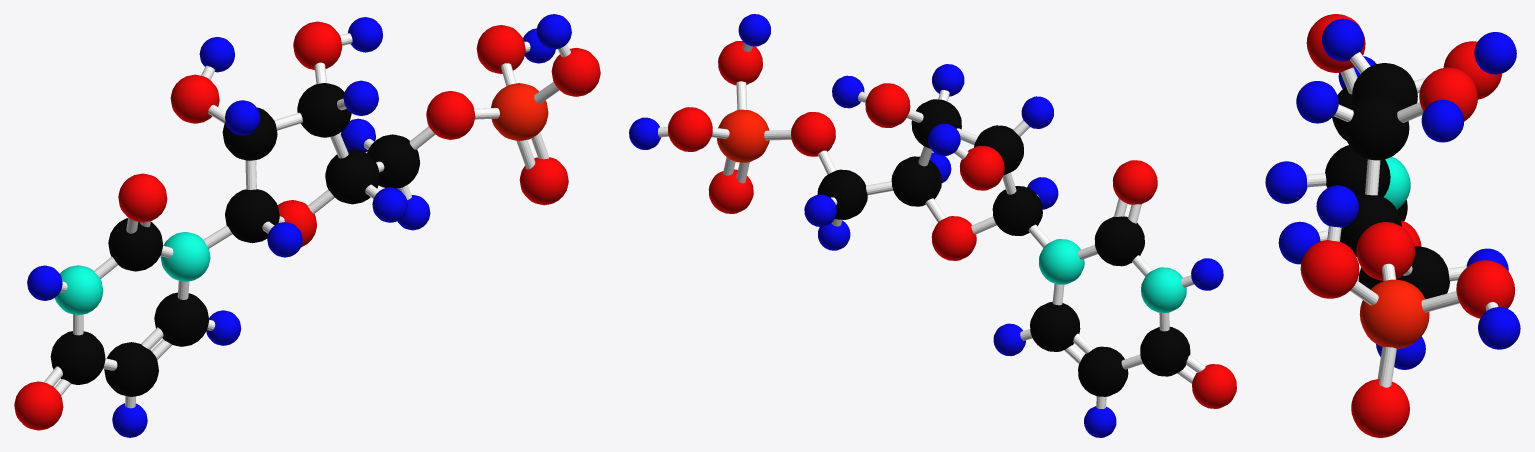
File: uridina.obj
3 views of the same model, side by side, from view 1: azimuth 30°, elevation 25°; view 2: azimuth 150°, elevation 25°; view 3: azimuth 270°, elevation 25° (orthographic). The views are drawn at different scales.
Parts seen in each view (by area): view 1: fosforo_Shape_Sphere.001, carbono.002_Shape_Sphere.025, carbono.001_Shape_Sphere.029, carbono_Shape_Sphere.027, carbono.007_Shape_Sphere.009, carbono.004_Shape_Sphere.014, carbono.006_Shape_Sphere.012, carbono.003_Shape_Sphere.026, carbono.008_Shape_Sphere.008, oxigenio_Shape_Sphere, oxigenio.001_Shape_Sphere.033, oxigenio.005_Shape_Sphere.006 (+22 smaller); view 2: fosforo_Shape_Sphere.001, carbono_Shape_Sphere.027, carbono.003_Shape_Sphere.026, carbono.001_Shape_Sphere.029, carbono.002_Shape_Sphere.025, carbono.007_Shape_Sphere.009, carbono.004_Shape_Sphere.014, carbono.008_Shape_Sphere.008, nitrogenio.001_Shape_Sphere.031, nitrogenio_Shape_Sphere.023, oxigenio.007_Shape_Sphere.002, oxigenio.004_Shape_Sphere.017 (+21 smaller); view 3: fosforo_Shape_Sphere.001, carbono.006_Shape_Sphere.012, oxigenio.008_Shape_Sphere.004, oxigenio.006_Shape_Sphere.007, oxigenio.005_Shape_Sphere.006, oxigenio.007_Shape_Sphere.002, carbono.005_Shape_Sphere.013, oxigenio.004_Shape_Sphere.017, carbono.004_Shape_Sphere.014, carbono.008_Shape_Sphere.008, carbono.007_Shape_Sphere.009, hidrogenio.006_Shape_Sphere.021 (+16 smaller).
Part boxes in pixels (bbox=[...]): fosforo_Shape_Sphere.001: bbox=[491, 83, 548, 140]; carbono.002_Shape_Sphere.025: bbox=[154, 292, 208, 346]; carbono.001_Shape_Sphere.029: bbox=[50, 331, 105, 384]; carbono_Shape_Sphere.027: bbox=[104, 342, 158, 396]; carbono.007_Shape_Sphere.009: bbox=[325, 149, 379, 204]; carbono.004_Shape_Sphere.014: bbox=[225, 189, 279, 243]; carbono.006_Shape_Sphere.012: bbox=[297, 83, 351, 137]; carbono.003_Shape_Sphere.026: bbox=[108, 218, 163, 271]; carbono.008_Shape_Sphere.008: bbox=[367, 134, 419, 188]; oxigenio_Shape_Sphere: bbox=[118, 173, 167, 222]; oxigenio.001_Shape_Sphere.033: bbox=[14, 381, 63, 430]; oxigenio.005_Shape_Sphere.006: bbox=[426, 91, 475, 139]; fosforo_Shape_Sphere.001: bbox=[717, 109, 769, 162]; carbono_Shape_Sphere.027: bbox=[1078, 346, 1128, 396]; carbono.003_Shape_Sphere.026: bbox=[1094, 216, 1144, 266]; carbono.001_Shape_Sphere.029: bbox=[1140, 327, 1190, 376]; carbono.002_Shape_Sphere.025: bbox=[1030, 302, 1080, 351]; carbono.007_Shape_Sphere.009: bbox=[891, 156, 941, 206]; carbono.004_Shape_Sphere.014: bbox=[992, 186, 1042, 235]; carbono.008_Shape_Sphere.008: bbox=[817, 169, 867, 219]; nitrogenio.001_Shape_Sphere.031: bbox=[1141, 267, 1186, 313]; nitrogenio_Shape_Sphere.023: bbox=[1039, 239, 1084, 284]; oxigenio.007_Shape_Sphere.002: bbox=[668, 107, 712, 151]; oxigenio.004_Shape_Sphere.017: bbox=[865, 83, 910, 127]; fosforo_Shape_Sphere.001: bbox=[1359, 279, 1429, 349]; carbono.006_Shape_Sphere.012: bbox=[1343, 94, 1409, 160]; oxigenio.008_Shape_Sphere.004: bbox=[1300, 240, 1359, 298]; oxigenio.006_Shape_Sphere.007: bbox=[1351, 379, 1409, 437]; oxigenio.005_Shape_Sphere.006: bbox=[1356, 222, 1415, 280]; oxigenio.007_Shape_Sphere.002: bbox=[1456, 260, 1514, 318]; carbono.005_Shape_Sphere.013: bbox=[1352, 63, 1417, 108]; oxigenio.004_Shape_Sphere.017: bbox=[1419, 67, 1477, 121]; carbono.004_Shape_Sphere.014: bbox=[1325, 145, 1390, 196]; carbono.008_Shape_Sphere.008: bbox=[1396, 246, 1449, 298]; carbono.007_Shape_Sphere.009: bbox=[1340, 194, 1401, 256]; hidrogenio.006_Shape_Sphere.021: bbox=[1474, 32, 1516, 74].
Size of the model in its own units: 12.76 by 7.08 by 3.94.
